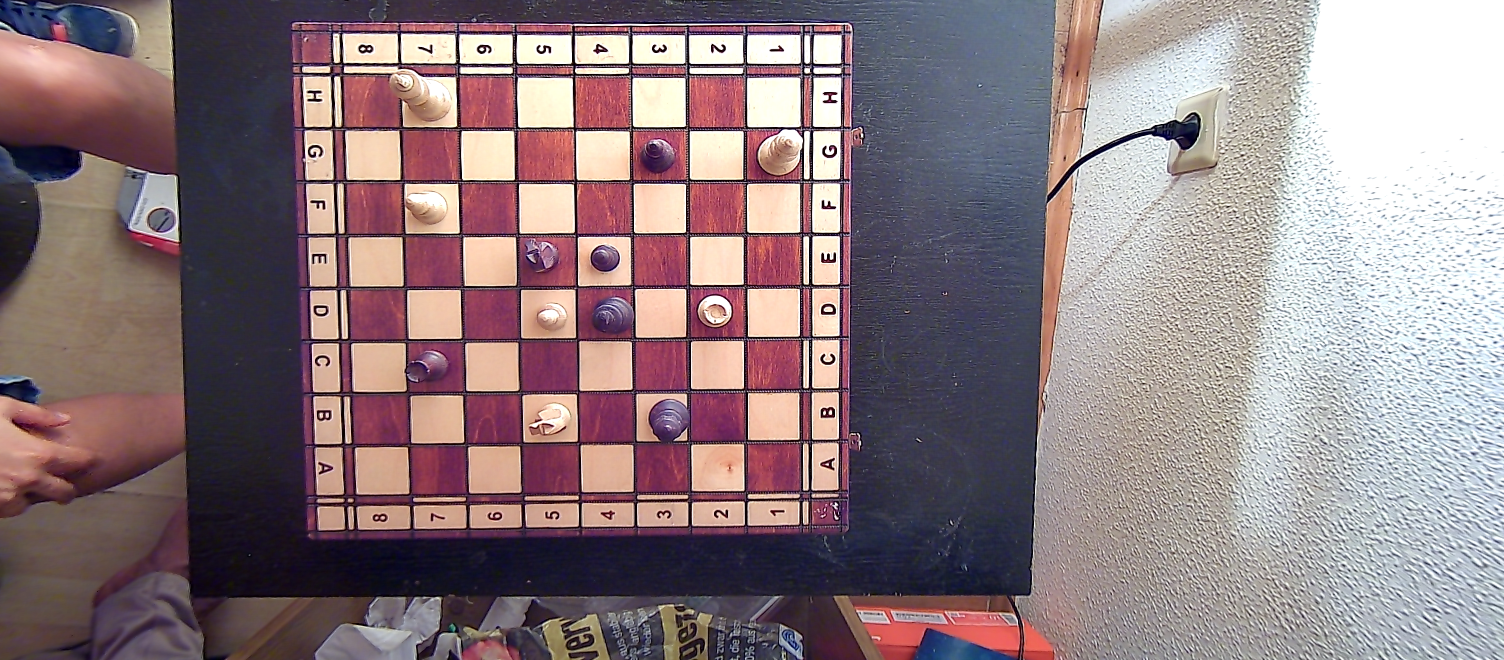black-bishop: (642, 137, 680, 175)
black-king: (589, 293, 637, 336)
black-knight: (520, 233, 561, 278)
black-pawn: (588, 241, 620, 275)
black-queen: (646, 398, 693, 443)
black-rook: (401, 349, 451, 384)
white-bishop: (403, 184, 449, 227)
white-king: (388, 64, 453, 123)
white-knight: (526, 399, 573, 437)
white-pawn: (531, 297, 571, 333)
white-queen: (756, 127, 807, 175)
white-rook: (695, 290, 737, 331)
